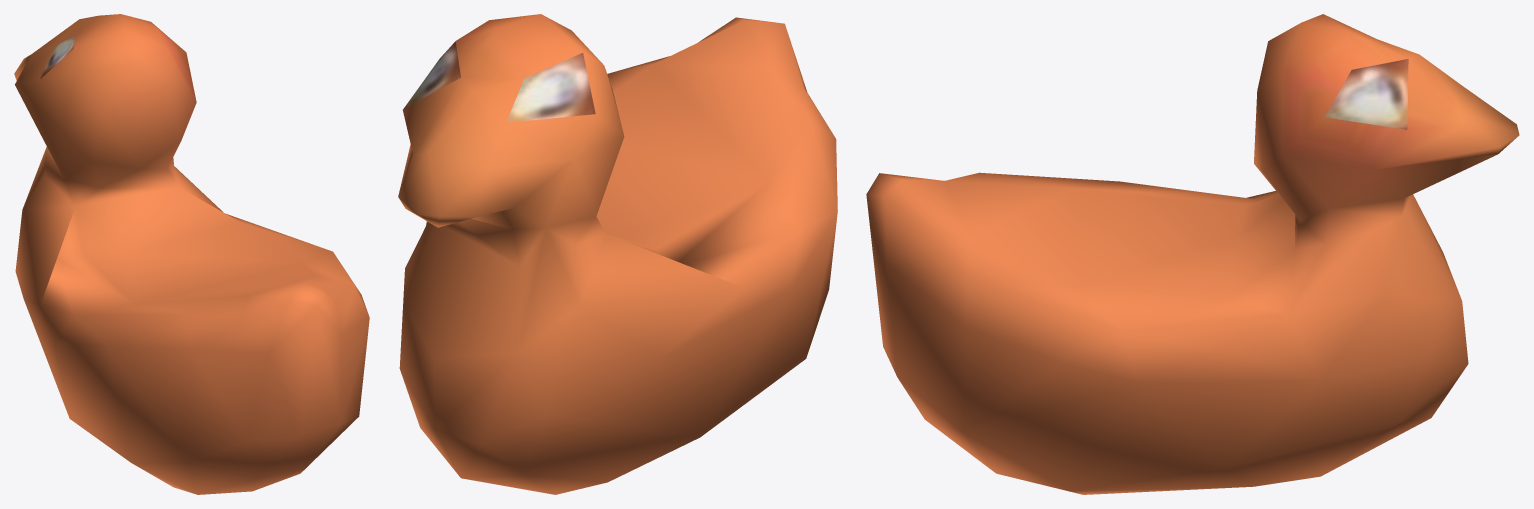
The model's file is cuckoo.glb.
3 renders of one model, left to right at view 1: azimuth 30°, elevation 25°; view 2: azimuth 150°, elevation 25°; view 3: azimuth 270°, elevation 25°, orthographic. The views are drawn at different scales.
Visible parts, largest first — view 1: cuckoo; view 2: cuckoo; view 3: cuckoo.
Boxes of the visible parts, x1,y1,x2,y2 form: cuckoo: [14, 14, 369, 494]; cuckoo: [398, 14, 837, 494]; cuckoo: [866, 14, 1519, 494].
Size of the model in its own units: 1.2 by 1.59 by 2.1.
Materials: 1 (1 with a texture image).
